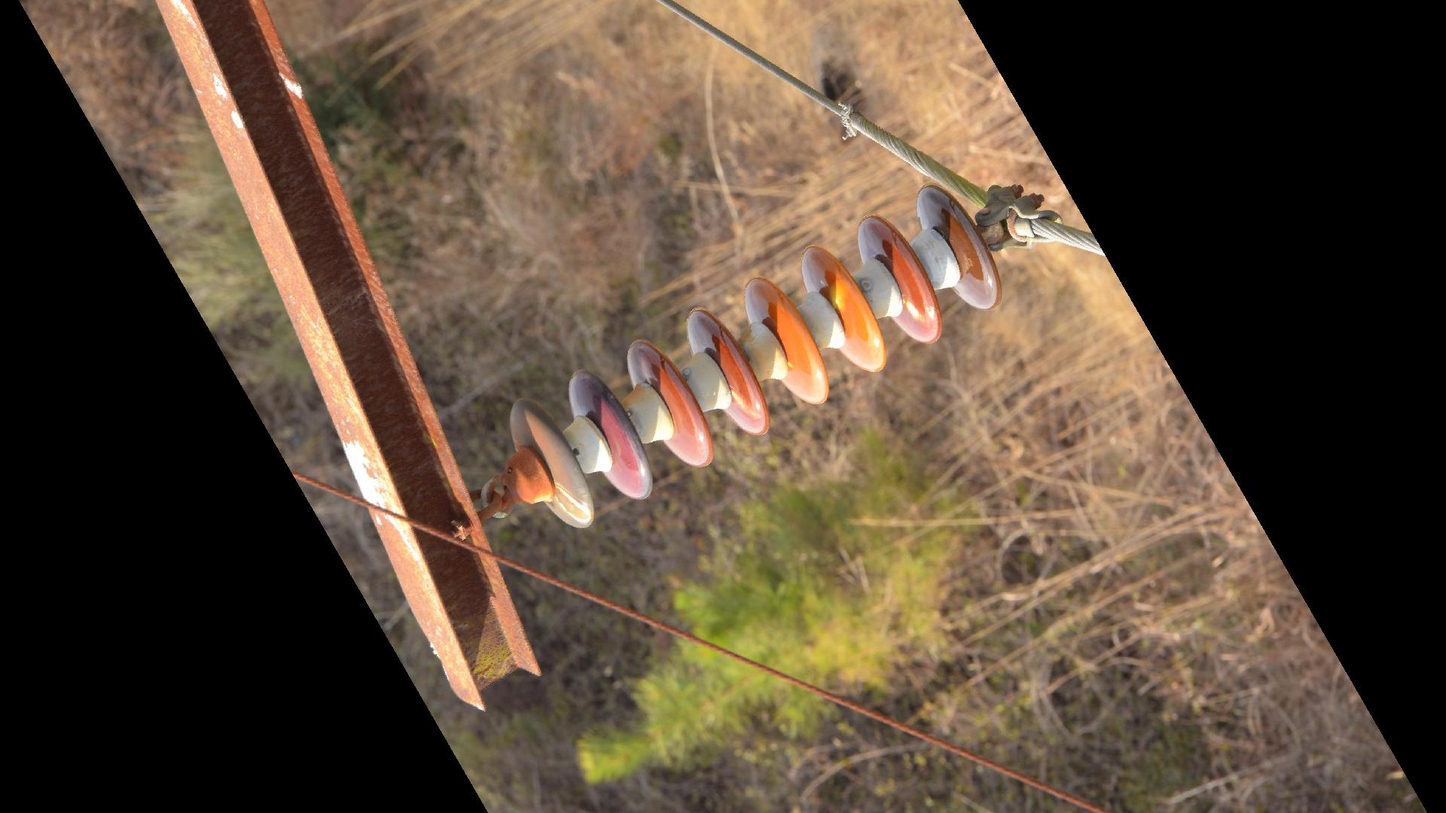insulator: (505, 181, 1005, 531)
insulator_flashover: (551, 480, 595, 527), (728, 388, 762, 422), (901, 299, 932, 327), (826, 274, 847, 312)
